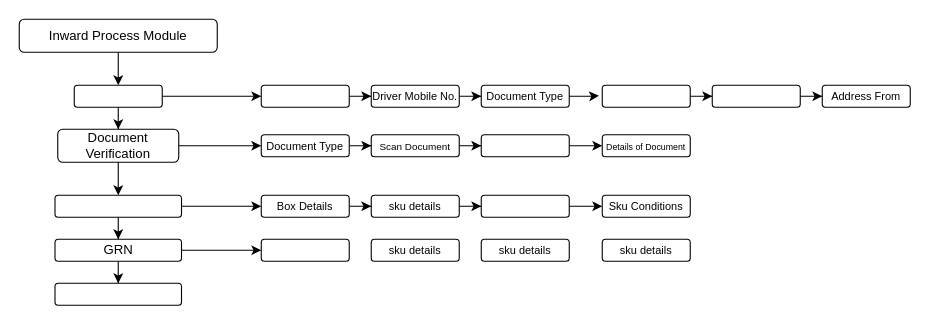
Image size: 930x325. Some labels were removed from this diagram. Each missing label, with the centre of its shape:
"Box conditions" belongs at point 524,205.
"Driver Name" belongs at point 304,95.
"GateIN" belongs at point 117,95.
"Putaway App" belongs at point 118,293.
"Unloading" belongs at point 118,205.
"Upload Doc" belongs at point 524,145.
"Vehicle No." belongs at point 755,95.
"Vehicle Type" belongs at point 645,95.
